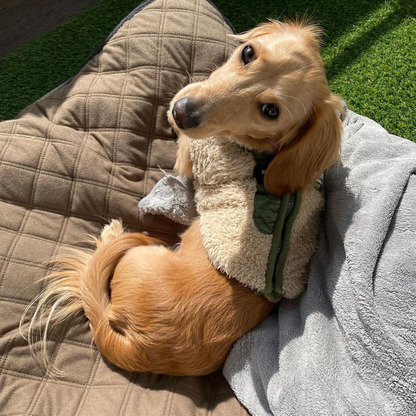dachshund: (67, 7, 361, 388)
